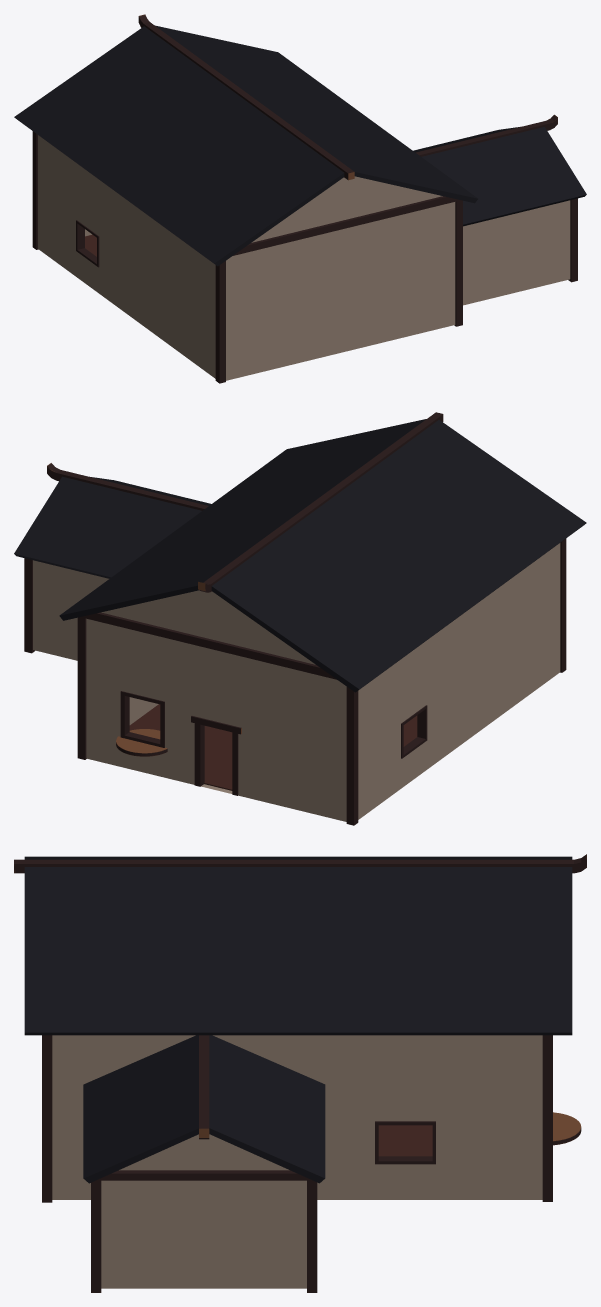
Rendered from DS_HouseModel.fbx.
3 renders of one model, top to bottom at view 1: azimuth 30°, elevation 25°; view 2: azimuth 150°, elevation 25°; view 3: azimuth 270°, elevation 25°, orthographic. The views are drawn at different scales.
Visible parts, largest first — view 1: floor; view 2: floor; view 3: floor.
Boxes of the visible parts, x1,y1,x2,y2 form: floor: (14,14,586,383); floor: (14,412,586,825); floor: (14,854,586,1292).
Bounding box in the file's own units: 18.55 × 16.51 × 8.48.
Materials: 5 (5 with a texture image).
